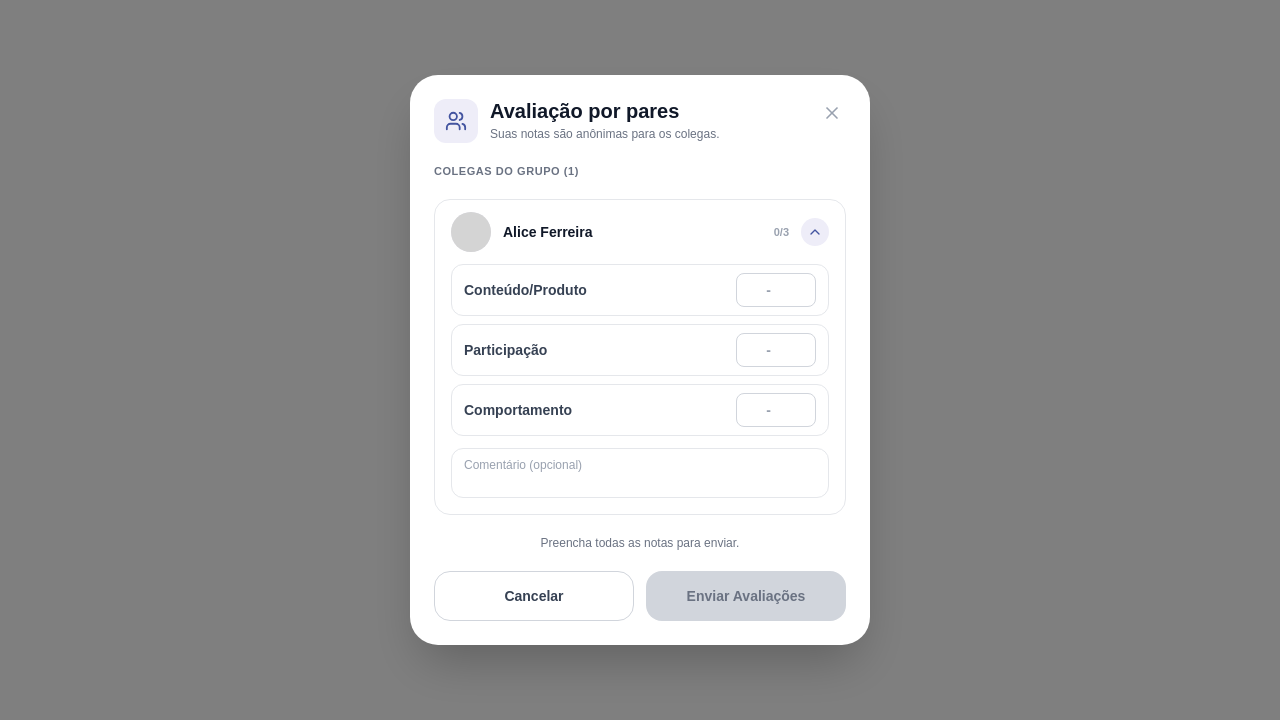
Test: [US14] PeerEvaluationModal › Deve aceitar a nota 0 como preenchida, liberando o envio
Type "0" into the number field labelled "Conteúdo/Produto".
click(776, 290); type("0")  # box 736,273 -> 816,307
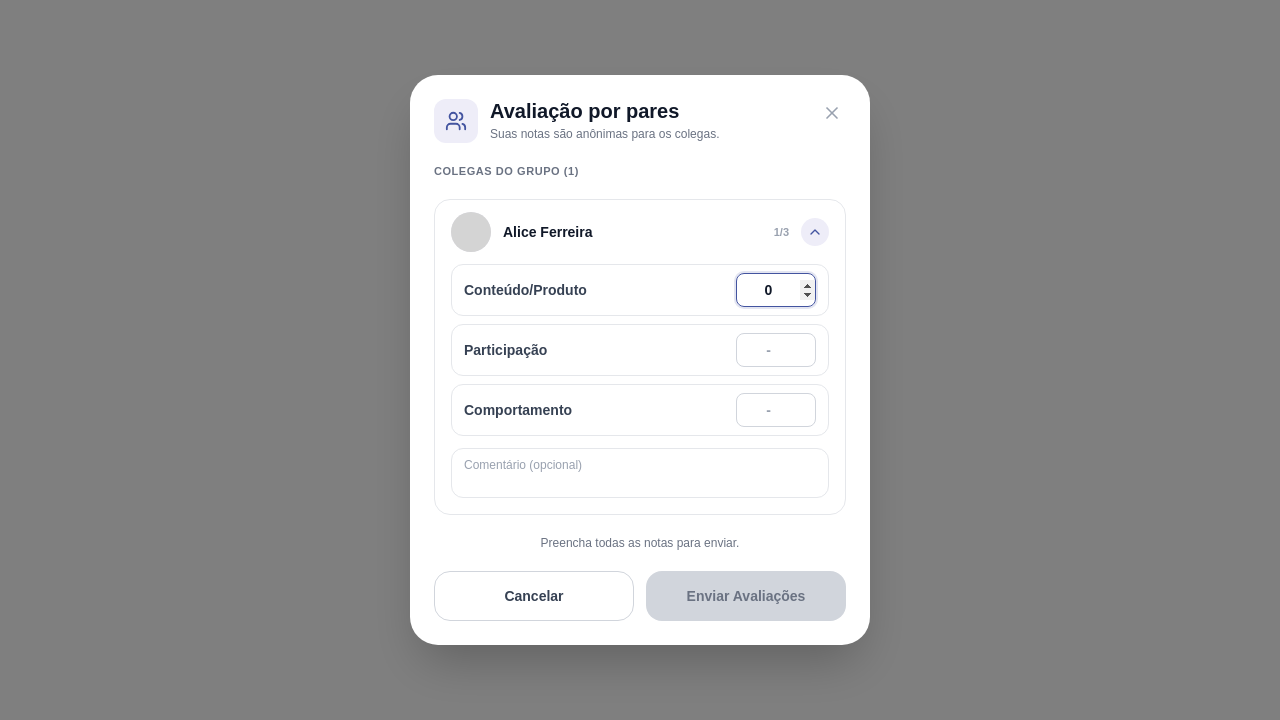
Type "0" into the number field labelled "Participação".
click(776, 350); type("0")  # box 736,333 -> 816,367
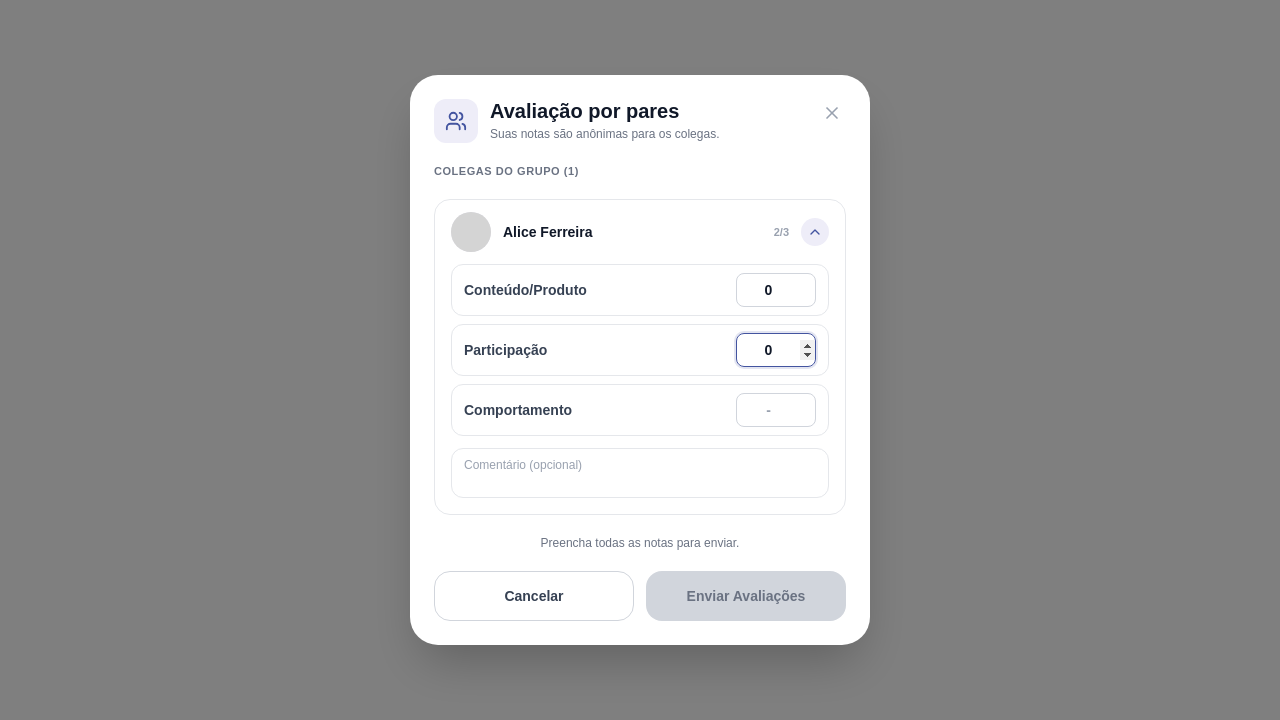
Type "0" into the number field labelled "Comportamento".
click(776, 410); type("0")  # box 736,393 -> 816,427
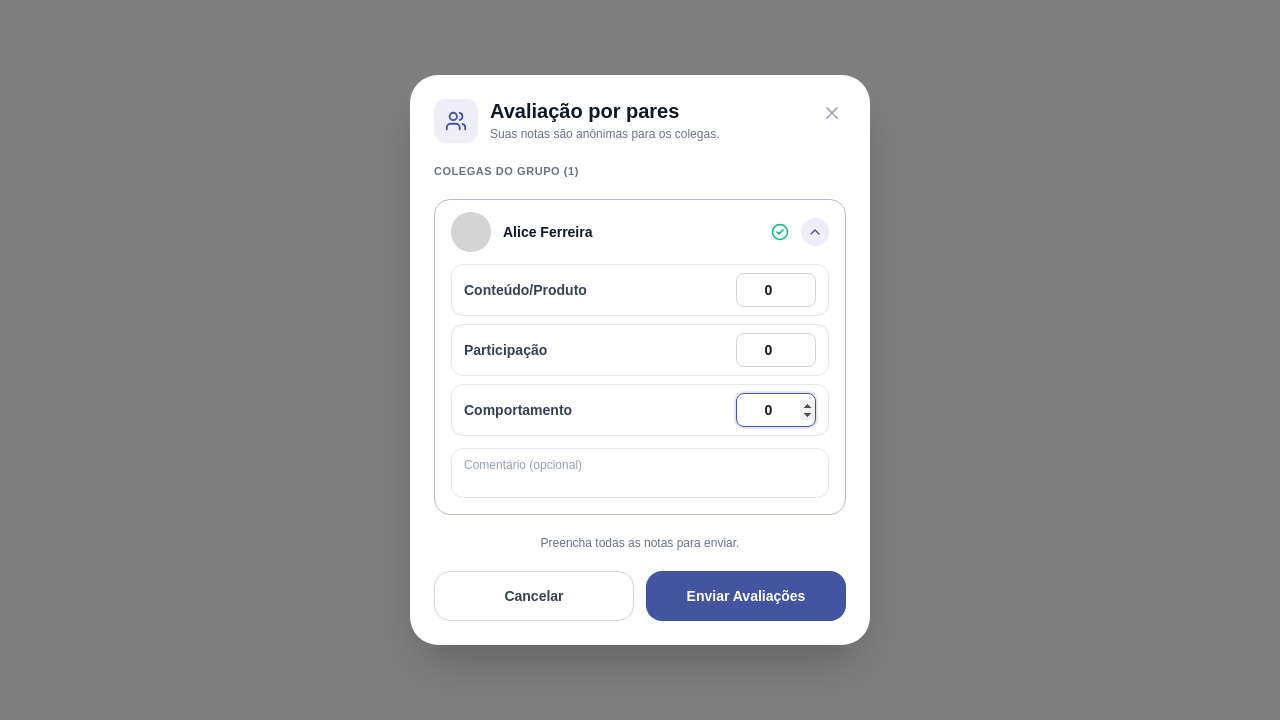
Expected: the button "Enviar Avaliações" is enabled, 646,571 -> 846,621
